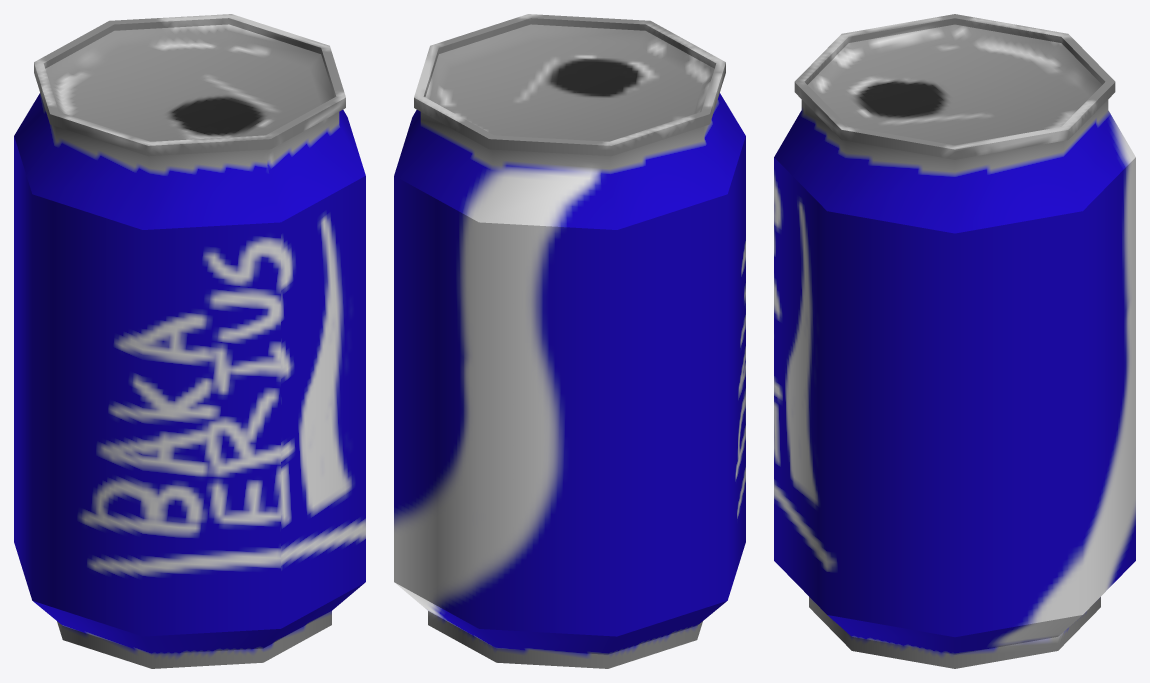
Rendered from Can.fbx.
3 renders of one model, left to right at view 1: azimuth 30°, elevation 25°; view 2: azimuth 150°, elevation 25°; view 3: azimuth 270°, elevation 25°, orthographic.
Visible parts, largest first — view 1: can; view 2: can; view 3: can.
Part boxes in pixels (x1,y1,x2,y2): can: (14, 14, 365, 668); can: (394, 14, 745, 668); can: (774, 14, 1135, 668).
Size of the model in its own units: 0.00635 by 0.0102 by 0.00635.
1 material, 1 textured.
